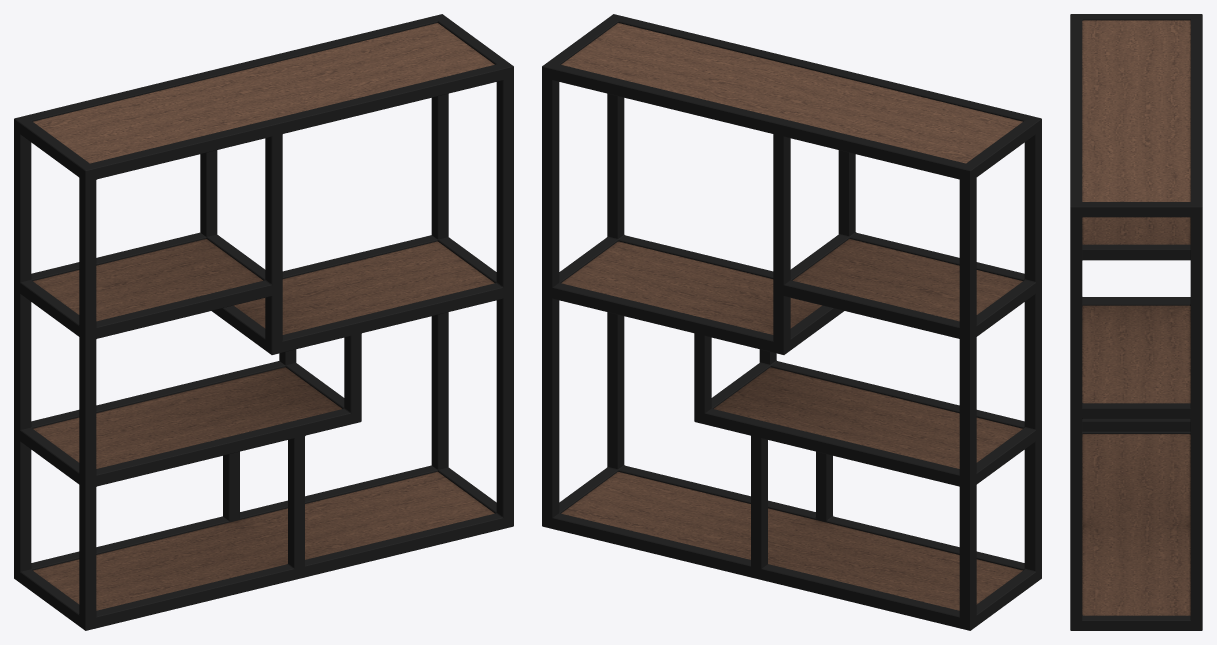
File: dlx-book_shelfmanhattan_beach.glb
3 renders of one model, left to right at view 1: azimuth 30°, elevation 25°; view 2: azimuth 150°, elevation 25°; view 3: azimuth 270°, elevation 25°, orthographic. The views are drawn at different scales.
Visible parts, largest first — view 1: Frame, Plane1, Plane5, Plane4, Plane3, Plane2; view 2: Frame, Plane1, Plane5, Plane4, Plane3, Plane2; view 3: Frame, Plane1, Plane5, Plane3, Plane2.
Part boxes in pixels (x1=…): Frame: x1=14, y1=14, x2=513, y2=630; Plane1: x1=33, y1=23, x2=494, y2=163; Plane5: x1=33, y1=471, x2=494, y2=610; Plane4: x1=33, y1=367, x2=341, y2=468; Plane3: x1=234, y1=241, x2=494, y2=334; Plane2: x1=33, y1=239, x2=262, y2=321; Frame: x1=542, y1=14, x2=1041, y2=630; Plane1: x1=561, y1=23, x2=1022, y2=163; Plane5: x1=561, y1=472, x2=1022, y2=610; Plane4: x1=714, y1=367, x2=1022, y2=468; Plane3: x1=561, y1=241, x2=821, y2=334; Plane2: x1=793, y1=239, x2=1022, y2=321; Frame: x1=1070, y1=14, x2=1202, y2=630; Plane1: x1=1082, y1=20, x2=1190, y2=201; Plane5: x1=1082, y1=434, x2=1190, y2=615; Plane3: x1=1082, y1=305, x2=1190, y2=403; Plane2: x1=1082, y1=217, x2=1190, y2=244.
Size of the model in its own units: 0.76 by 0.78 by 0.22.
Materials: 2 (1 with a texture image).
